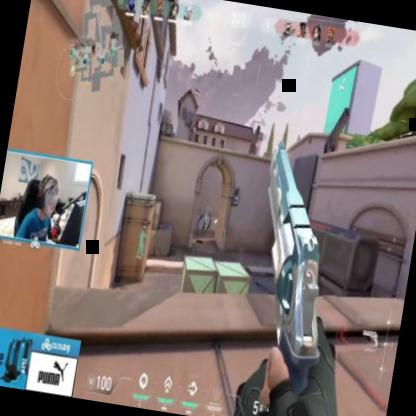enemy: (200, 216, 208, 235)
enemy_head: (204, 218, 206, 221)
